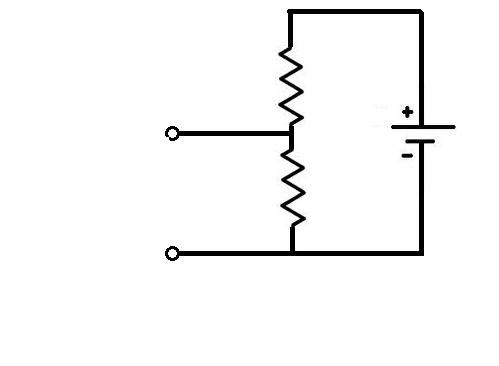resistor: (266, 146, 322, 229), (266, 35, 314, 117)
